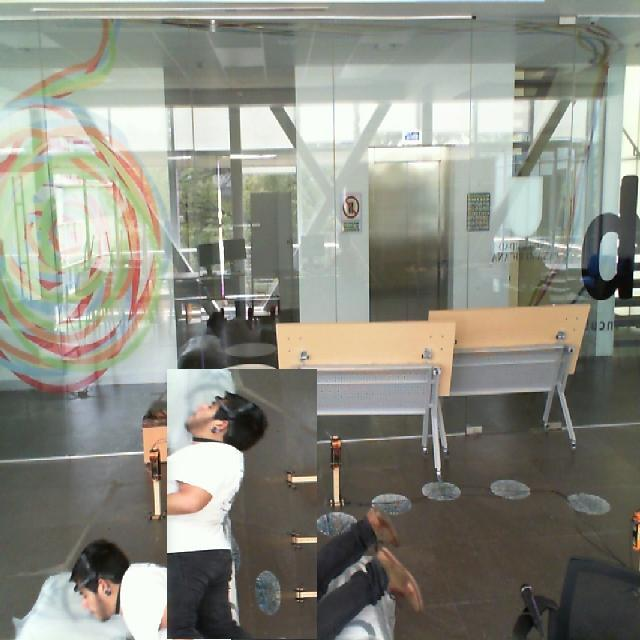NotFall: (140, 399, 307, 632)
